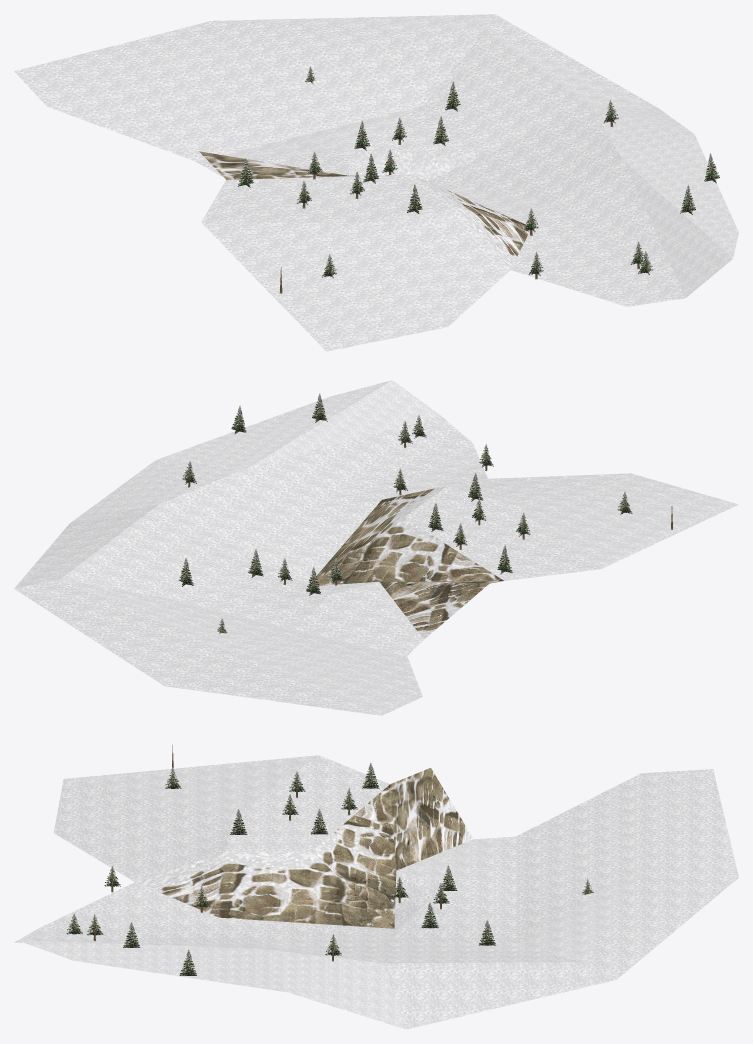
File: olympia.glb
3 renders of one model, top to bottom at view 1: azimuth 30°, elevation 25°; view 2: azimuth 150°, elevation 25°; view 3: azimuth 270°, elevation 25°, orthographic. The views are drawn at different scales.
Visible parts, largest first — view 1: 3 12_5SNOW64.MAT_0, 3 15_5SNOW64.MAT_0, 2 15_5SNOW64.MAT_0, 2 12_5SNOW64.MAT_0, 2 14_5SNOW64.MAT_0, 2 13_5SNOW64.MAT_0, 3 13_5SNOW64.MAT_0, 1 12_5SNOW64.MAT_0, 1 14_5SNOW64.MAT_0, 1 13_5SNOW64.MAT_0, 3 14_5SNOW64.MAT_0, 2 12_6SNOROK.MAT_0 (+2 smaller); view 2: 2 12_5SNOW64.MAT_0, 2 14_5SNOW64.MAT_0, 3 15_5SNOW64.MAT_0, 3 12_5SNOW64.MAT_0, 2 15_5SNOW64.MAT_0, 2 13_5SNOW64.MAT_0, 3 13_5SNOW64.MAT_0, 3 14_5SNOW64.MAT_0, 1 12_5SNOW64.MAT_0, 2 13_6SNOROK.MAT_0, 1 13_5SNOW64.MAT_0, 3 13_6SNOROK.MAT_0 (+2 smaller); view 3: 3 12_5SNOW64.MAT_0, 3 15_5SNOW64.MAT_0, 2 15_5SNOW64.MAT_0, 2 13_6SNOROK.MAT_0, 2 14_5SNOW64.MAT_0, 1 14_5SNOW64.MAT_0, 2 12_5SNOW64.MAT_0, 3 13_5SNOW64.MAT_0, 1 12_5SNOW64.MAT_0, 1 13_5SNOW64.MAT_0, 3 14_6SNOROK.MAT_0, 2 13_5SNOW64.MAT_0 (+3 smaller).
Boxes of the visible parts, <box> form: 3 12_5SNOW64.MAT_0: <box>201,207,510,351</box>; 3 15_5SNOW64.MAT_0: <box>14,21,308,161</box>; 2 15_5SNOW64.MAT_0: <box>212,14,495,133</box>; 2 12_5SNOW64.MAT_0: <box>511,161,732,306</box>; 2 14_5SNOW64.MAT_0: <box>309,31,589,181</box>; 2 13_5SNOW64.MAT_0: <box>428,106,623,224</box>; 3 13_5SNOW64.MAT_0: <box>201,174,456,222</box>; 1 12_5SNOW64.MAT_0: <box>624,134,738,258</box>; 1 14_5SNOW64.MAT_0: <box>484,14,657,107</box>; 1 13_5SNOW64.MAT_0: <box>590,106,694,160</box>; 3 14_5SNOW64.MAT_0: <box>195,133,348,176</box>; 2 12_6SNOROK.MAT_0: <box>457,207,529,269</box>; 2 12_5SNOW64.MAT_0: <box>251,380,487,509</box>; 2 14_5SNOW64.MAT_0: <box>61,504,378,628</box>; 3 15_5SNOW64.MAT_0: <box>165,629,422,715</box>; 3 12_5SNOW64.MAT_0: <box>448,473,738,568</box>; 2 15_5SNOW64.MAT_0: <box>14,578,296,685</box>; 2 13_5SNOW64.MAT_0: <box>159,466,381,584</box>; 3 13_5SNOW64.MAT_0: <box>404,485,600,580</box>; 3 14_5SNOW64.MAT_0: <box>297,582,423,655</box>; 1 12_5SNOW64.MAT_0: <box>156,380,391,466</box>; 2 13_6SNOROK.MAT_0: <box>309,486,446,586</box>; 1 13_5SNOW64.MAT_0: <box>70,460,250,523</box>; 3 13_6SNOROK.MAT_0: <box>379,517,503,581</box>; 3 12_5SNOW64.MAT_0: <box>53,755,318,881</box>; 3 15_5SNOW64.MAT_0: <box>515,769,738,889</box>; 2 15_5SNOW64.MAT_0: <box>515,865,738,979</box>; 2 13_6SNOROK.MAT_0: <box>219,851,396,928</box>; 2 14_5SNOW64.MAT_0: <box>383,870,579,963</box>; 1 14_5SNOW64.MAT_0: <box>383,962,615,1029</box>; 2 12_5SNOW64.MAT_0: <box>14,882,264,948</box>; 3 13_5SNOW64.MAT_0: <box>226,755,389,851</box>; 1 12_5SNOW64.MAT_0: <box>18,940,286,992</box>; 1 13_5SNOW64.MAT_0: <box>261,949,406,1029</box>; 3 14_6SNOROK.MAT_0: <box>390,768,473,870</box>; 2 13_5SNOW64.MAT_0: <box>220,917,394,963</box>.
Size of the model in its own units: 8.28 by 1.27 by 10.65.
Materials: 6 (6 with a texture image).
